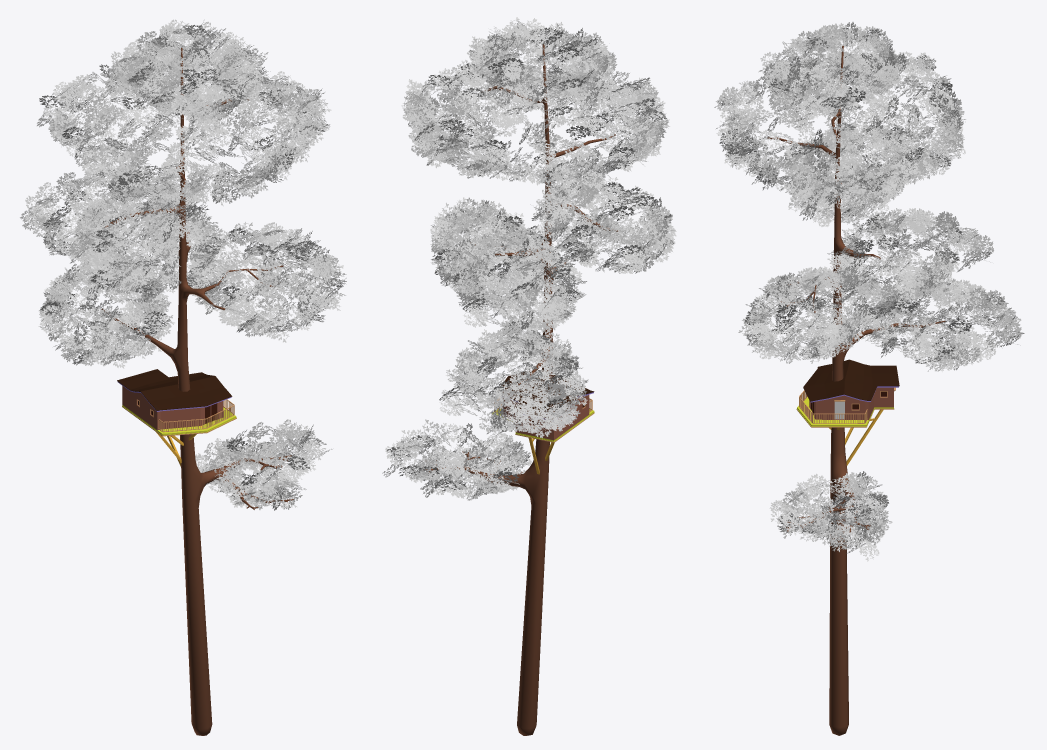
File: Trees_Avec_Cabane.fbx
The picture shows the model from 3 angles, left to right: view 1: azimuth 30°, elevation 25°; view 2: azimuth 150°, elevation 25°; view 3: azimuth 270°, elevation 25°; orthographic projection. The views are drawn at different scales.
Visible parts, largest first — view 1: Arbre_Avec_Cabane; view 2: Arbre_Avec_Cabane; view 3: Arbre_Avec_Cabane.
Part boxes in pixels (x1,y1,x2,y2): Arbre_Avec_Cabane: [20, 19, 346, 735]; Arbre_Avec_Cabane: [382, 17, 676, 735]; Arbre_Avec_Cabane: [714, 22, 1024, 735].
Bounding box in the file's own units: 3238 × 7578 × 3170.
